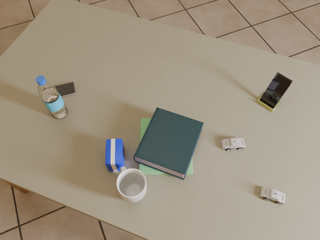book: (134, 107, 204, 180)
bottle: (36, 76, 67, 119)
box: (105, 139, 124, 171)
cup: (117, 166, 147, 202)
phone: (260, 72, 293, 108), (55, 82, 76, 97)
toy_car: (260, 187, 285, 204), (222, 138, 245, 151)
